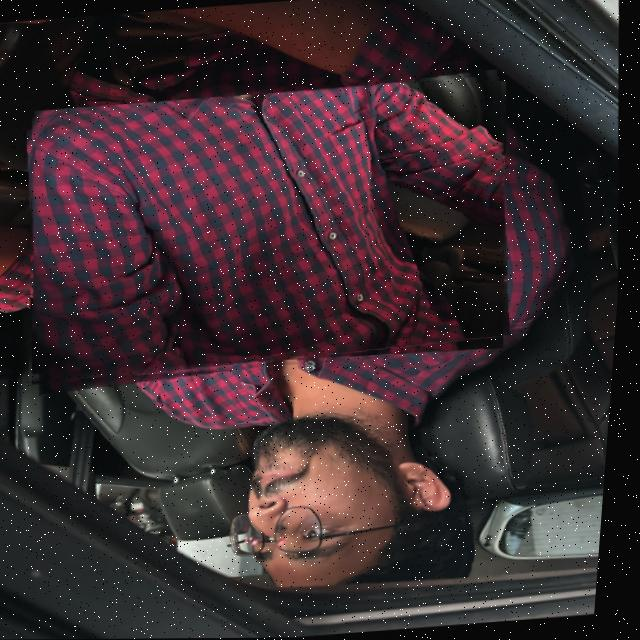no-seatbelt: (14, 74, 528, 391)
